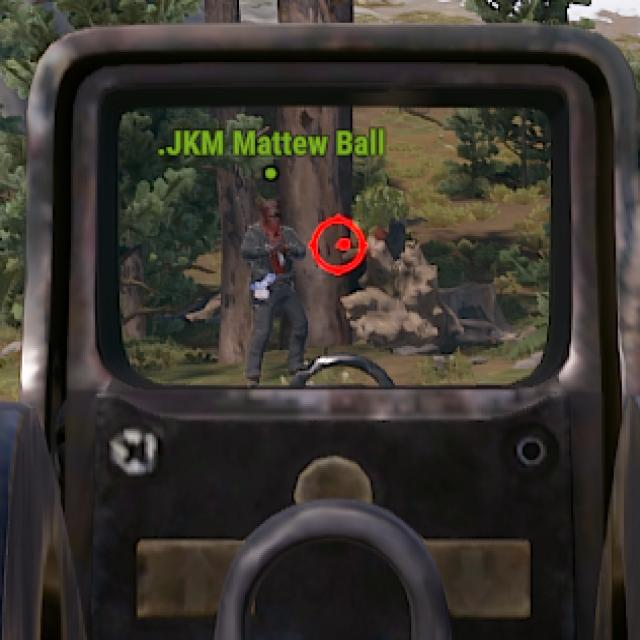Player: (242, 196, 306, 368)
